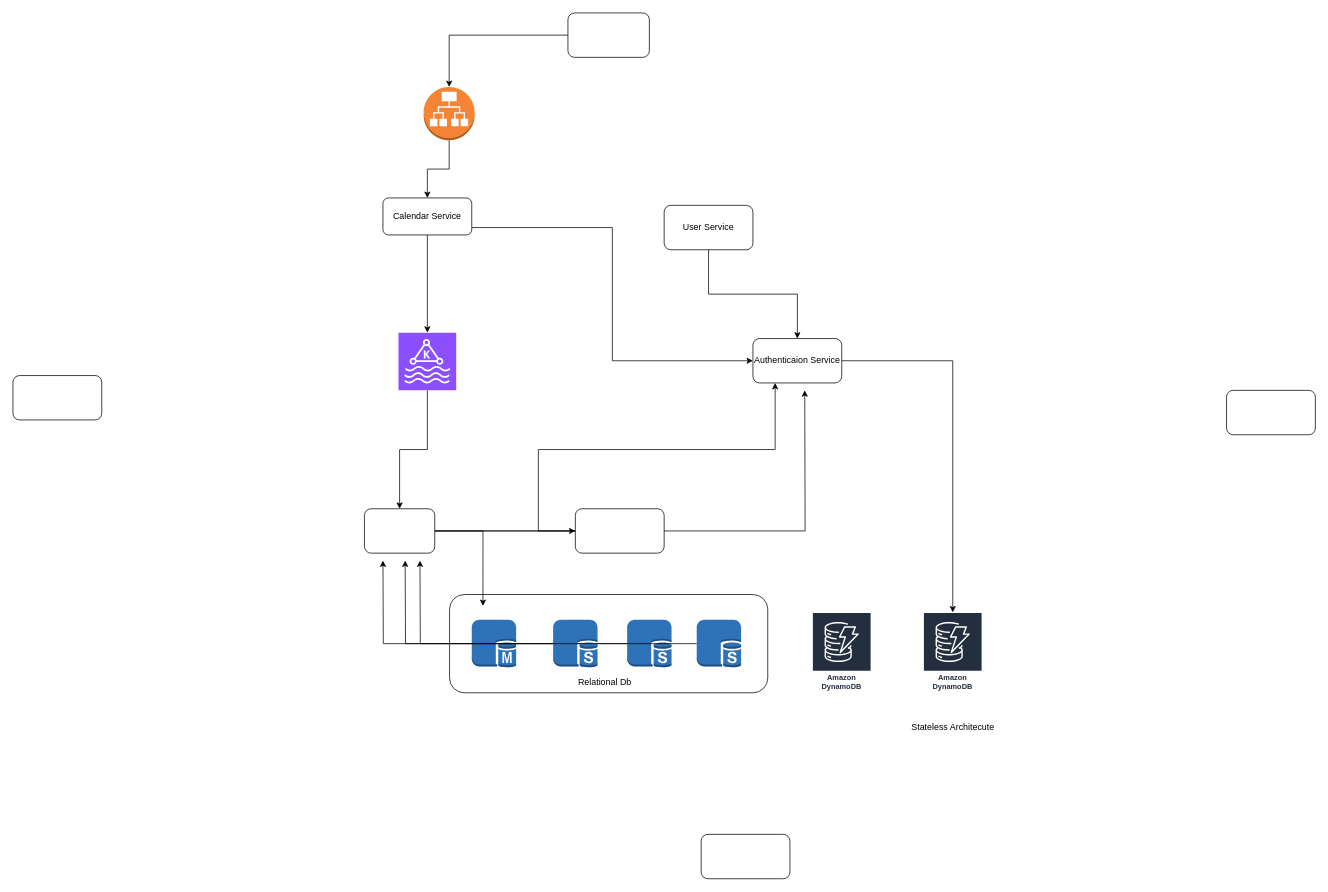
This 1328x892 diagram has some shape labels left out. The shapes that lost their labels are listed below. From the top down, each one's box as (x1, y1, x2, y2) in pixels, then its label:
(567, 12, 649, 57): Web and Mobile
(364, 508, 435, 553): Event Service
(575, 508, 664, 553): Notification Service
